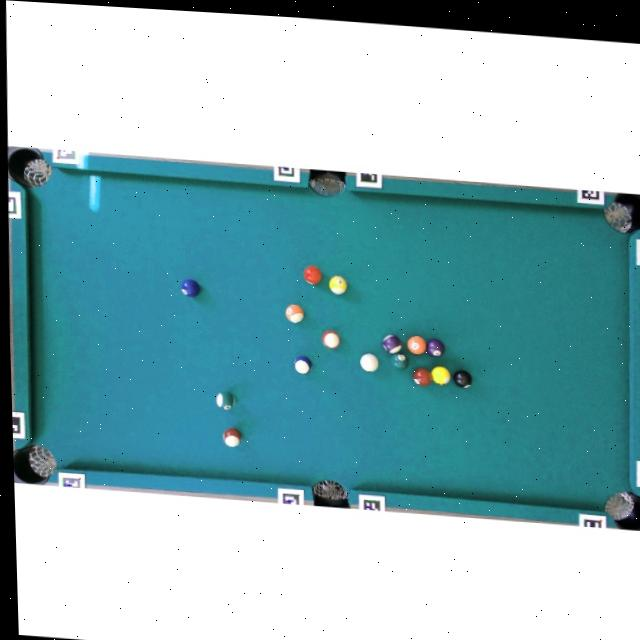cue ball: (359, 353, 378, 372)
other: (412, 366, 433, 387), (328, 273, 348, 295), (179, 277, 200, 297), (382, 333, 402, 354), (431, 365, 451, 385), (406, 335, 426, 355), (215, 390, 235, 410), (222, 427, 241, 448), (303, 264, 322, 285), (284, 304, 304, 323), (452, 369, 472, 388), (426, 338, 445, 357), (321, 329, 340, 348), (389, 352, 408, 371), (294, 355, 312, 374)
